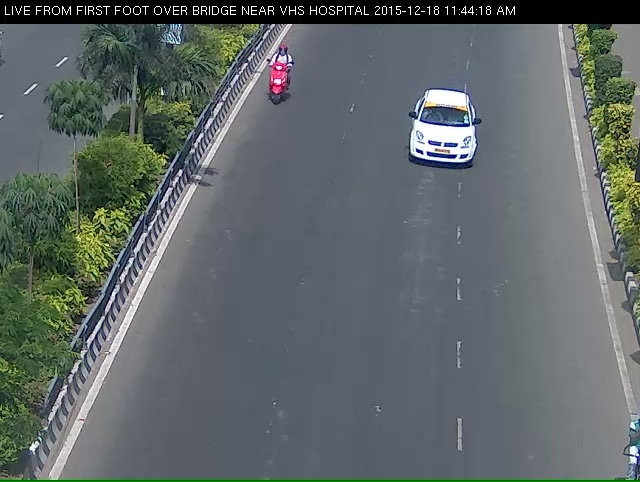Car: (397, 94, 489, 193)
Person: (250, 59, 293, 120)
